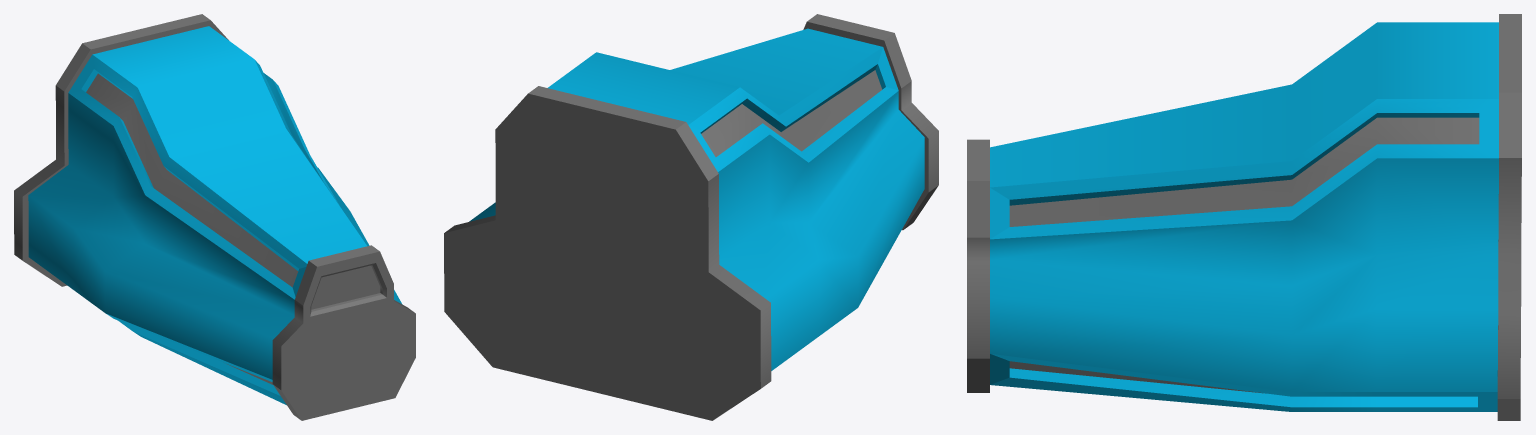
File: _1Ship_PIece30.fbx
3 renders of one model, left to right at view 1: azimuth 30°, elevation 25°; view 2: azimuth 150°, elevation 25°; view 3: azimuth 270°, elevation 25°, orthographic. The views are drawn at different scales.
Parts seen in each view (by area): view 1: Ship_PIece30; view 2: Ship_PIece30; view 3: Ship_PIece30.
Part boxes in pixels (left/top/right/bottom): Ship_PIece30: left=14, top=14, right=415, bottom=420; Ship_PIece30: left=444, top=14, right=938, bottom=420; Ship_PIece30: left=967, top=14, right=1521, bottom=420.
Size of the model in its own units: 254 by 217 by 353.
